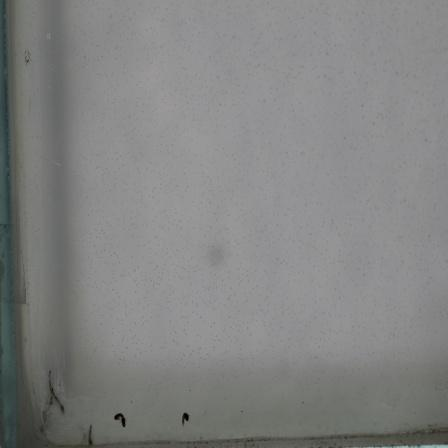Jentik-Nyamuk: (43, 368, 68, 417), (178, 408, 193, 431), (112, 410, 128, 430), (84, 421, 95, 448)
